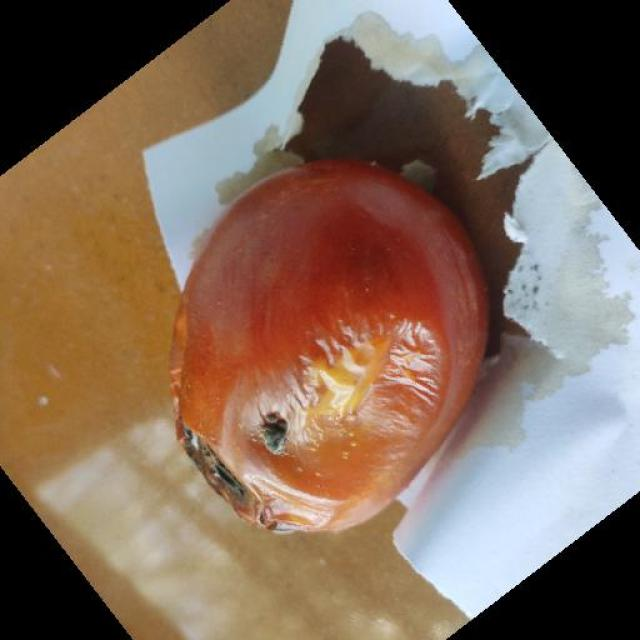Stale_tomato: (186, 162, 459, 536)
